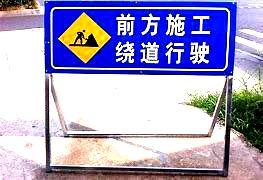sign: (49, 4, 231, 72)
